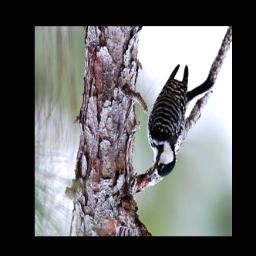Woodpecker: (143, 64, 214, 182)
